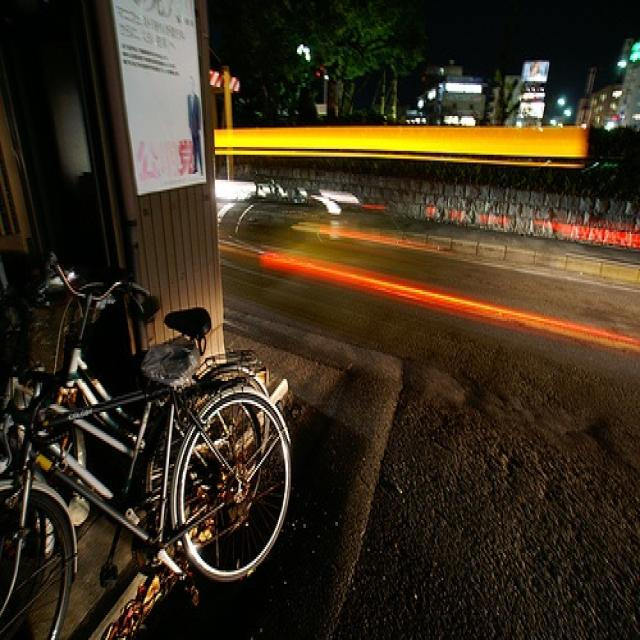bicycle: (1, 343, 301, 639), (10, 258, 289, 573)
